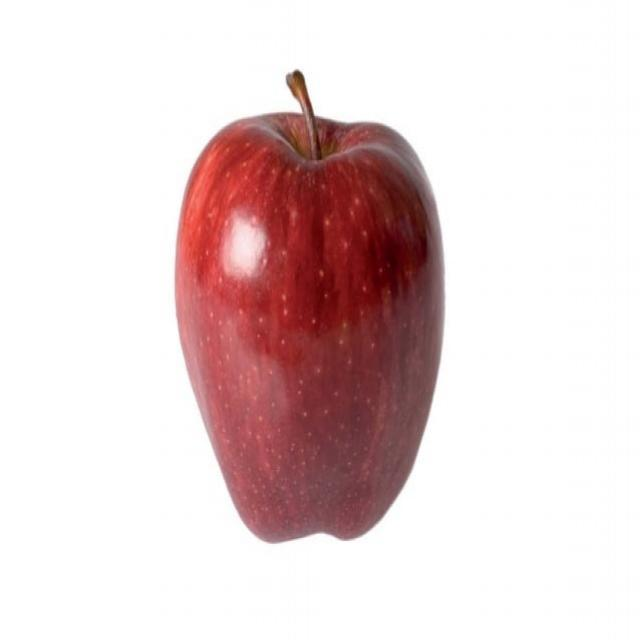Apple: (176, 68, 446, 544)
